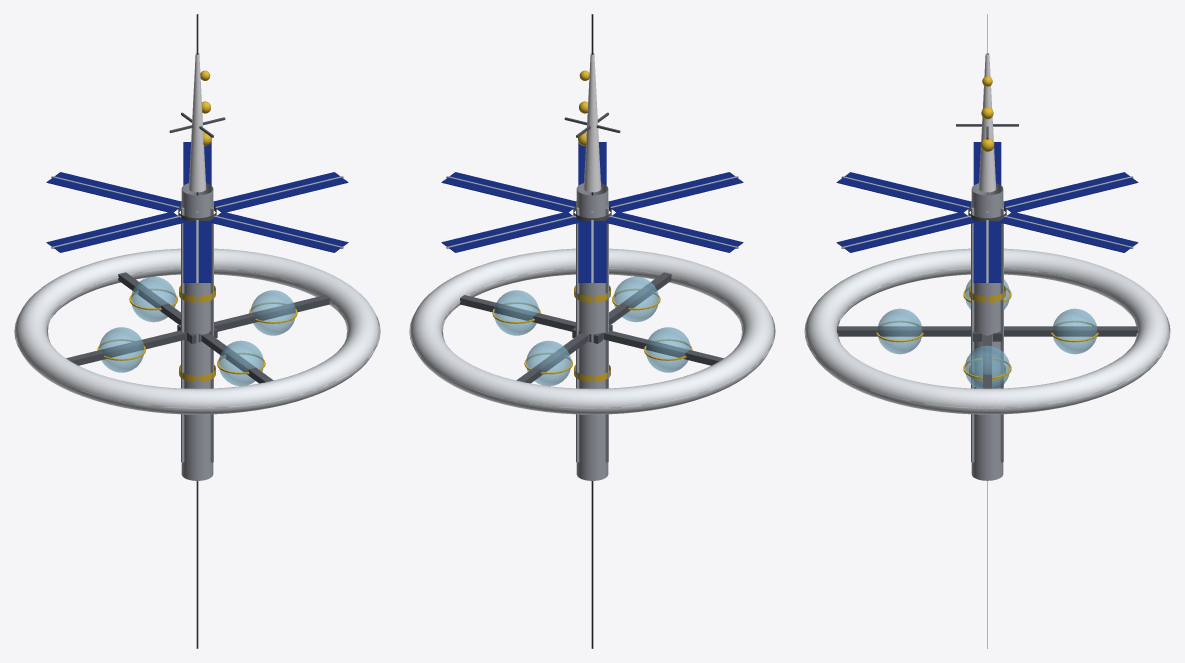
The model's file is Space_Elevator_GEO_Orbital_Station.obj.
3 renders of one model, left to right at view 1: azimuth 30°, elevation 25°; view 2: azimuth 150°, elevation 25°; view 3: azimuth 270°, elevation 25°, orthographic.
Visible parts, largest first — view 1: Torus_Hab_White, Photovoltaic_Blue, Titanium_Core, Biosphere_Glass, Composite_Corridor, Thermal_White, Gold_Foil, Graphene_Tether; view 2: Torus_Hab_White, Photovoltaic_Blue, Titanium_Core, Biosphere_Glass, Composite_Corridor, Thermal_White, Gold_Foil, Graphene_Tether; view 3: Torus_Hab_White, Photovoltaic_Blue, Titanium_Core, Biosphere_Glass, Composite_Corridor, Thermal_White, Gold_Foil.
Boxes of the visible parts, x1,y1,x2,y2 form: Torus_Hab_White: (15, 248, 379, 414); Photovoltaic_Blue: (46, 142, 348, 282); Titanium_Core: (51, 176, 343, 480); Biosphere_Glass: (99, 276, 295, 386); Composite_Corridor: (66, 112, 329, 383); Thermal_White: (14, 53, 380, 408); Gold_Foil: (97, 70, 297, 381); Graphene_Tether: (196, 14, 198, 648); Torus_Hab_White: (410, 248, 774, 414); Photovoltaic_Blue: (441, 142, 743, 282); Titanium_Core: (446, 176, 738, 480); Biosphere_Glass: (494, 276, 690, 386); Composite_Corridor: (460, 112, 723, 383); Thermal_White: (409, 53, 775, 408); Gold_Foil: (492, 70, 692, 381); Graphene_Tether: (591, 14, 593, 648); Torus_Hab_White: (805, 248, 1169, 414); Photovoltaic_Blue: (836, 142, 1138, 282); Titanium_Core: (841, 176, 1133, 480); Biosphere_Glass: (877, 279, 1097, 388); Composite_Corridor: (837, 124, 1137, 388); Thermal_White: (804, 53, 1170, 408); Gold_Foil: (876, 76, 1098, 381).
Size of the model in its own units: 209 by 400 by 209.
